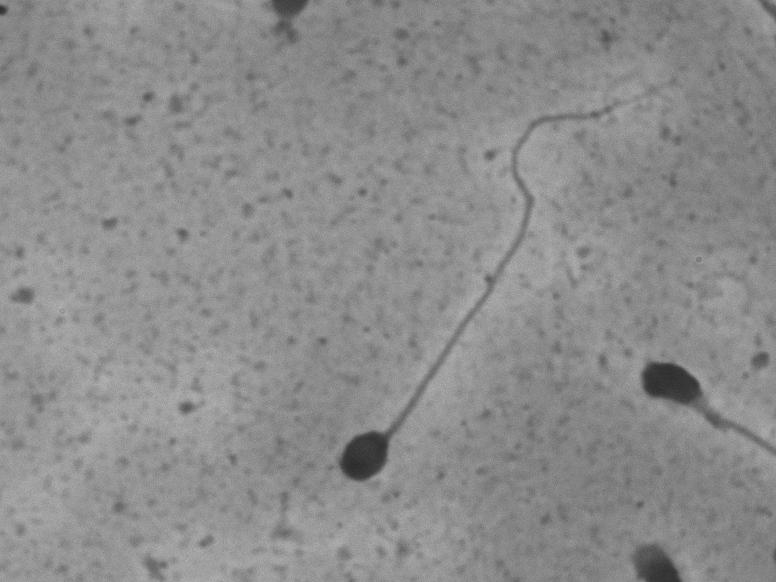Abnormal: (329, 62, 595, 511), (609, 326, 746, 488)
